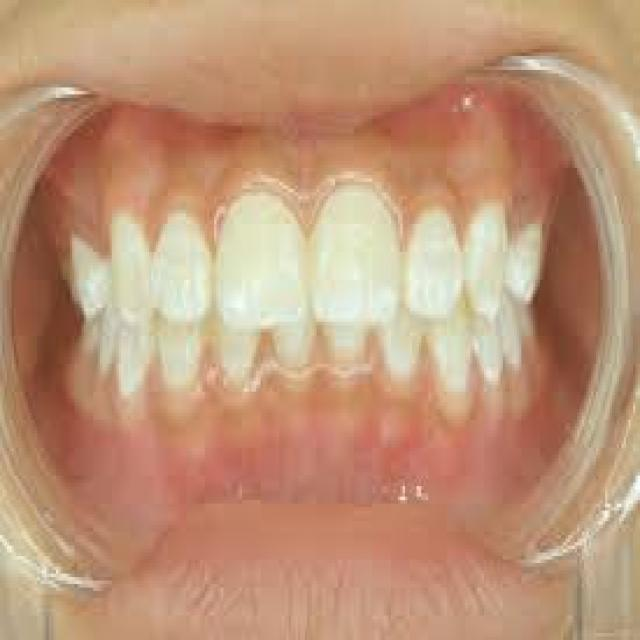tooth: (312, 172, 402, 318), (214, 199, 305, 329), (402, 210, 458, 322), (461, 200, 507, 326), (151, 220, 205, 326), (433, 322, 479, 412), (110, 217, 146, 325), (158, 329, 198, 395), (119, 328, 156, 398), (210, 336, 253, 392), (512, 224, 540, 304), (328, 322, 375, 367), (277, 325, 314, 374), (384, 318, 414, 371)
